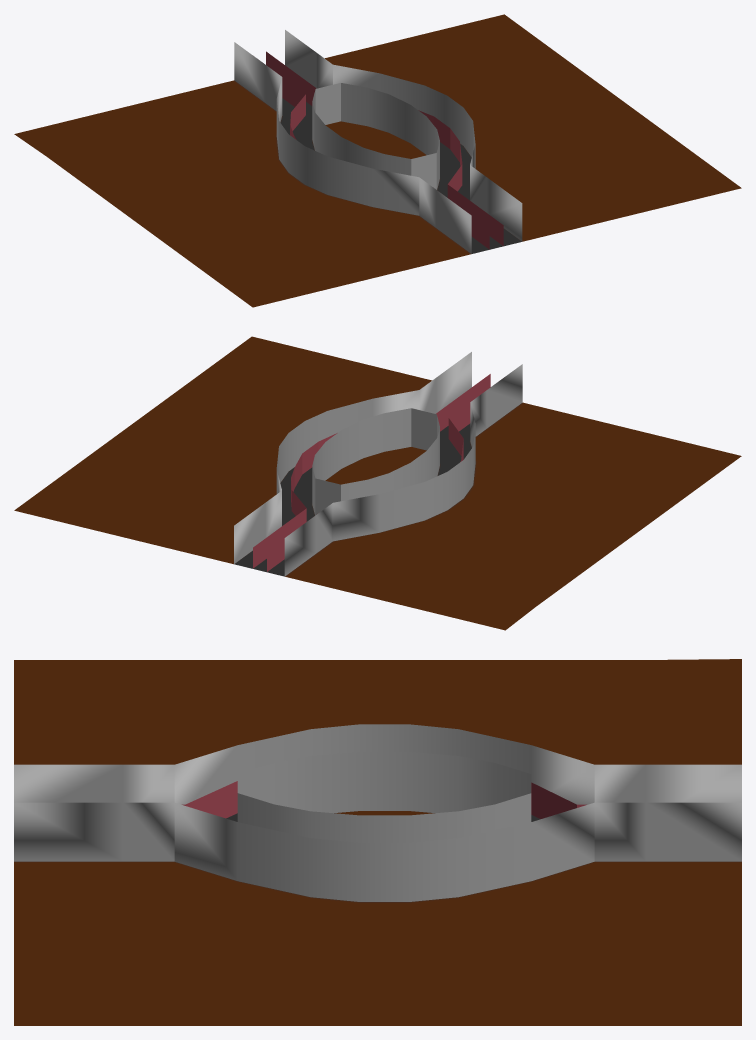
The model's file is Track_D.fbx.
3 views of the same model, one above another, from view 1: azimuth 30°, elevation 25°; view 2: azimuth 150°, elevation 25°; view 3: azimuth 270°, elevation 25° (orthographic). The views are drawn at different scales.
Visible parts, largest first — view 1: Sand_D1, InvisibleWall_D, AI_D2, Road_D, AI_D1; view 2: Sand_D1, InvisibleWall_D, AI_D2, Road_D, AI_D1; view 3: Sand_D1, InvisibleWall_D, AI_D1.
Part boxes in pixels (x1,y1,x2,y2): Sand_D1: (14,14,741,307); InvisibleWall_D: (234,30,522,253); AI_D2: (266,51,503,245); Road_D: (280,98,521,253); AI_D1: (282,77,489,249); Sand_D1: (14,336,741,630); InvisibleWall_D: (234,352,522,576); AI_D2: (253,374,490,568); Road_D: (234,423,471,576); AI_D1: (267,402,470,571); Sand_D1: (14,659,741,1025); InvisibleWall_D: (14,724,741,901); AI_D1: (182,781,586,818).
Size of the model in its own units: 170 by 12.73 by 142.
